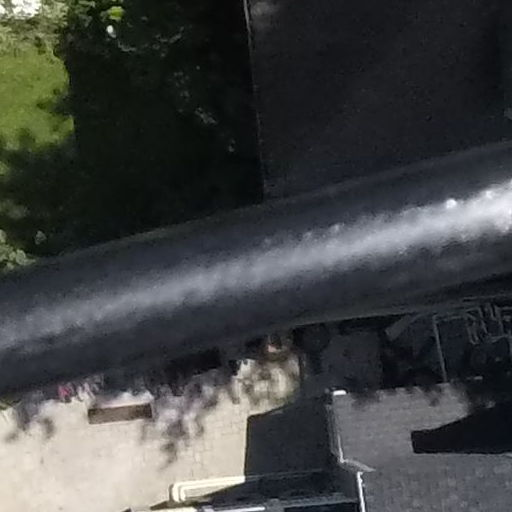flower bed: (82, 402, 165, 430)
